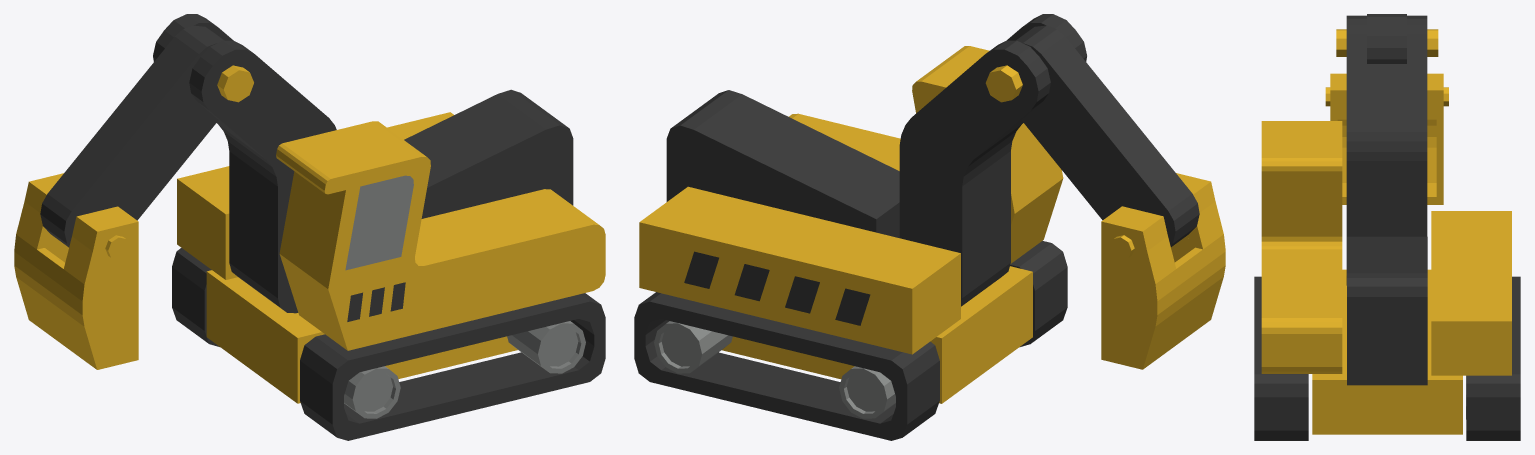
File: Track.fbx
The picture shows the model from 3 angles, left to right: view 1: azimuth 30°, elevation 25°; view 2: azimuth 150°, elevation 25°; view 3: azimuth 270°, elevation 25°; orthographic projection. The views are drawn at different scales.
Visible parts, largest first — view 1: ExcavatorCab, ExcavatorTrack, ExcavatorBoom, ExcavatorArm, ExcavatorBucket, ExcavatorEngine, ExcavatorBottom, ExcavatorCube, ExcavatorIdler1, ExcavatorTrack1, ExcavatorIdler, ExcavatorCylinder1; view 2: ExcavatorCube, ExcavatorBoom, ExcavatorEngine, ExcavatorTrack1, ExcavatorArm, ExcavatorBucket, ExcavatorBottom, ExcavatorCab, ExcavatorTrack, ExcavatorIdler3, ExcavatorIdler2, ExcavatorCylinder1; view 3: ExcavatorCab, ExcavatorBoom, ExcavatorCube, ExcavatorEngine, ExcavatorBottom, ExcavatorTrack1, ExcavatorTrack, ExcavatorBucket, ExcavatorArm, ExcavatorCylinder1.
Boxes of the visible parts, x1,y1,x2,y2 form: ExcavatorCab: (276,121,605,350); ExcavatorTrack: (300,293,605,440); ExcavatorBoom: (153,14,336,313); ExcavatorArm: (40,25,224,247); ExcavatorBucket: (14,173,138,369); ExcavatorEngine: (404,89,573,218); ExcavatorBottom: (206,270,517,403); ExcavatorCube: (177,112,453,279); ExcavatorIdler1: (507,321,585,373); ExcavatorTrack1: (172,248,219,346); ExcavatorIdler: (344,366,400,418); ExcavatorCylinder1: (217,65,253,102); ExcavatorCube: (639,186,960,354); ExcavatorBoom: (899,14,1086,306); ExcavatorEngine: (666,90,899,237); ExcavatorTrack1: (634,292,939,440); ExcavatorArm: (1015,25,1199,246); ExcavatorBucket: (1101,173,1225,369); ExcavatorBottom: (722,266,1032,403); ExcavatorCab: (789,46,1063,263); ExcavatorTrack: (1010,241,1067,347); ExcavatorIdler3: (654,321,732,373); ExcavatorIdler2: (839,366,895,418); ExcavatorCylinder1: (985,65,1022,102); ExcavatorCab: (1261,121,1342,373); ExcavatorBoom: (1346,15,1427,285); ExcavatorCube: (1431,211,1511,375); ExcavatorEngine: (1347,236,1427,385); ExcavatorBottom: (1312,269,1462,434); ExcavatorTrack1: (1466,276,1520,440); ExcavatorTrack: (1254,276,1308,440); ExcavatorBucket: (1330,73,1443,204); ExcavatorArm: (1367,14,1406,63); ExcavatorCylinder1: (1336,29,1438,56).
Bounding box in the file's own units: 955 × 664 × 531.
